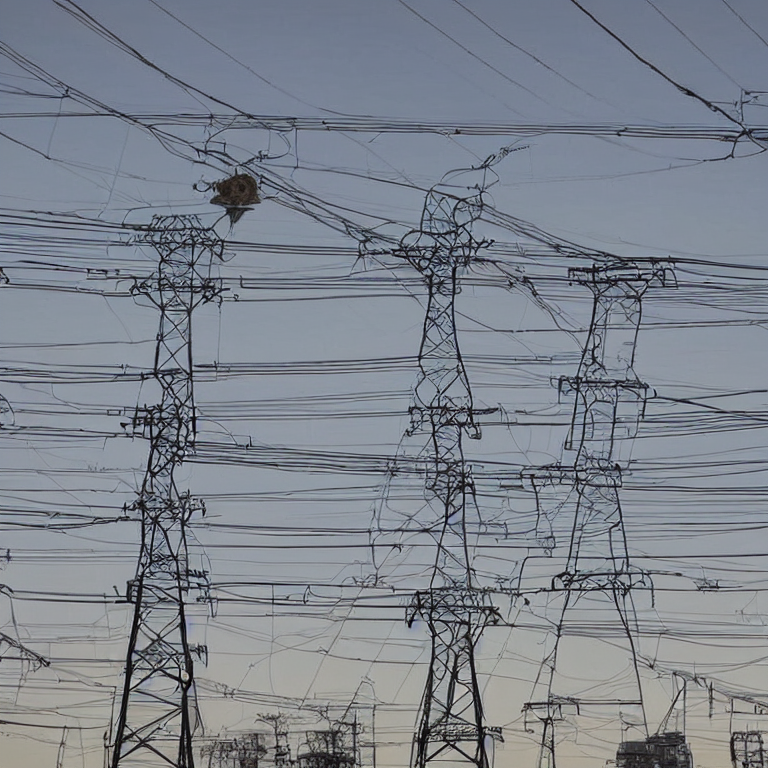nest: (213, 175, 257, 211)
